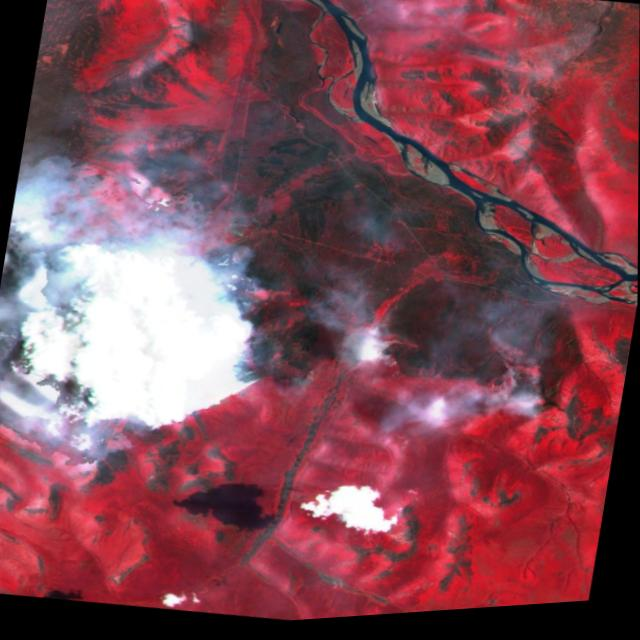fire: (131, 234, 591, 459)
